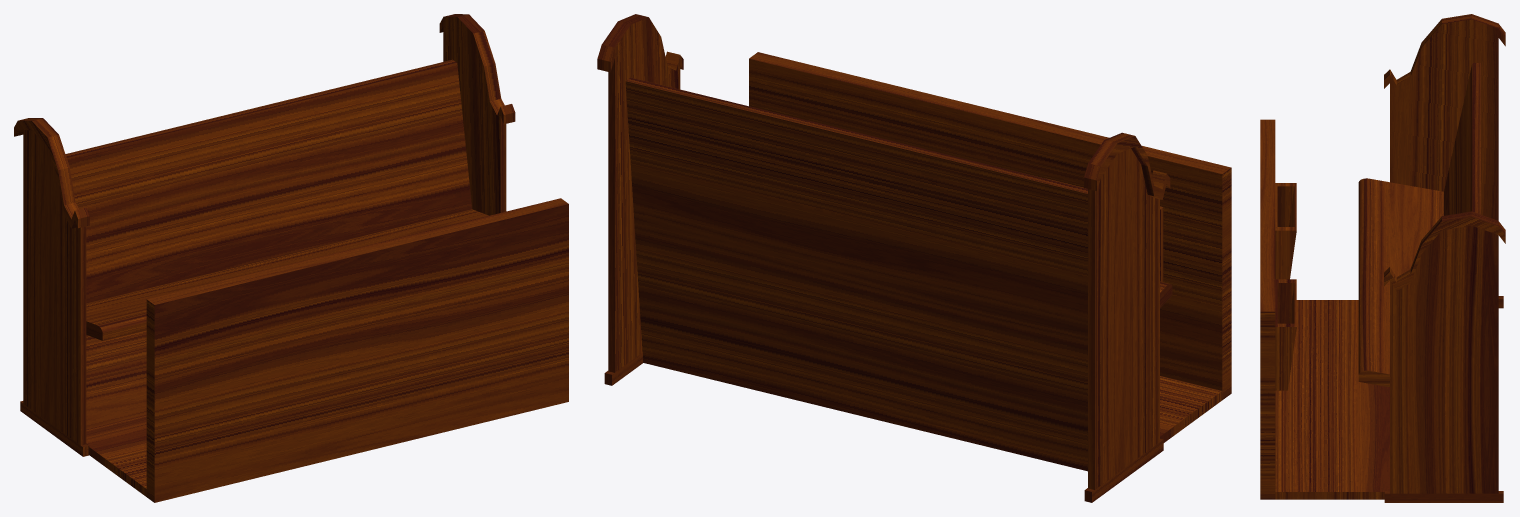
File: pew.glb
3 views of the same model, side by side, from view 1: azimuth 30°, elevation 25°; view 2: azimuth 150°, elevation 25°; view 3: azimuth 270°, elevation 25° (orthographic). The views are drawn at different scales.
Parts seen in each view (by area): view 1: Pew; view 2: Pew; view 3: Pew.
Part boxes in pixels (<box>): Pew: <box>14,14,568,502</box>; Pew: <box>597,14,1231,502</box>; Pew: <box>1260,14,1505,502</box>.
Size of what is drawn, in the model's own units: 1.69 by 1.12 by 0.8633.
Materials: 1 (1 with a texture image).
